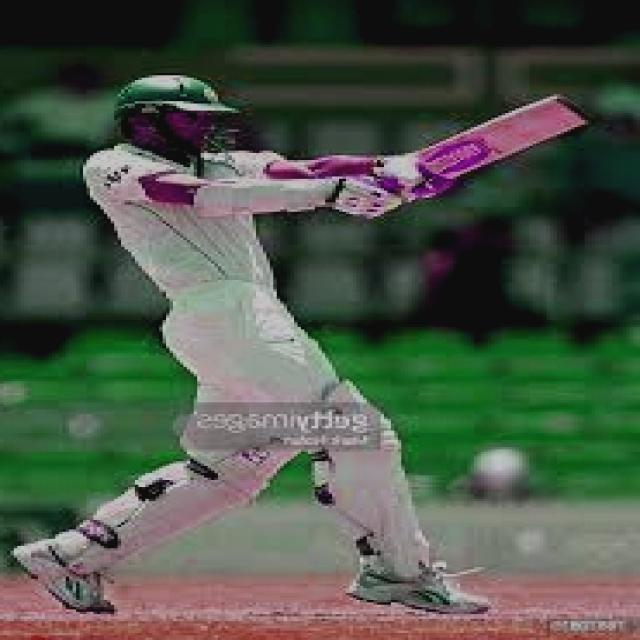toe: (539, 90, 602, 128)
